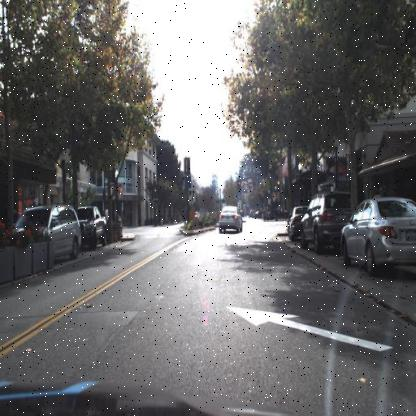car: (340, 193, 416, 277), (298, 188, 356, 263), (20, 204, 78, 262), (77, 204, 108, 247), (201, 205, 229, 242)
trafficLight-Red: (237, 179, 242, 194)
